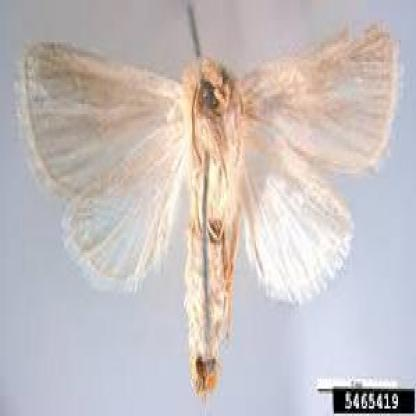stem-borer: (14, 18, 404, 375)
